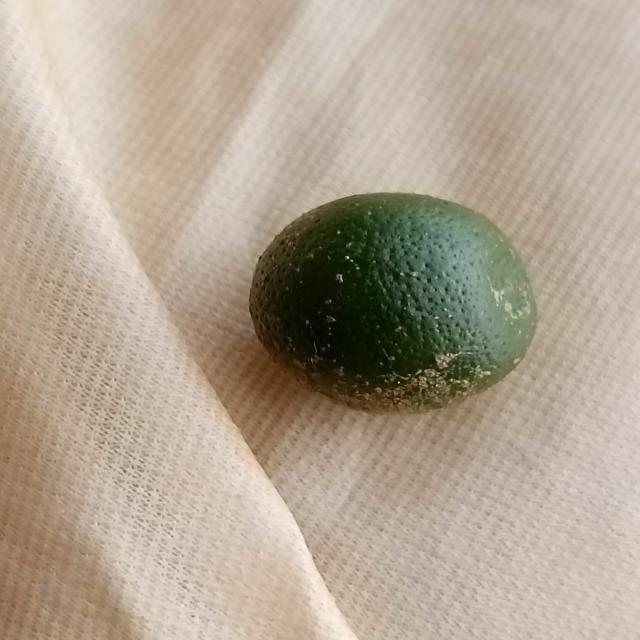scab: (252, 187, 542, 422)
